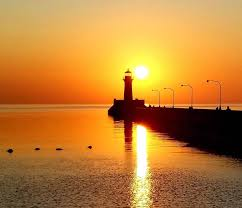sea: (3, 102, 242, 206)
sky: (2, 1, 242, 103)
